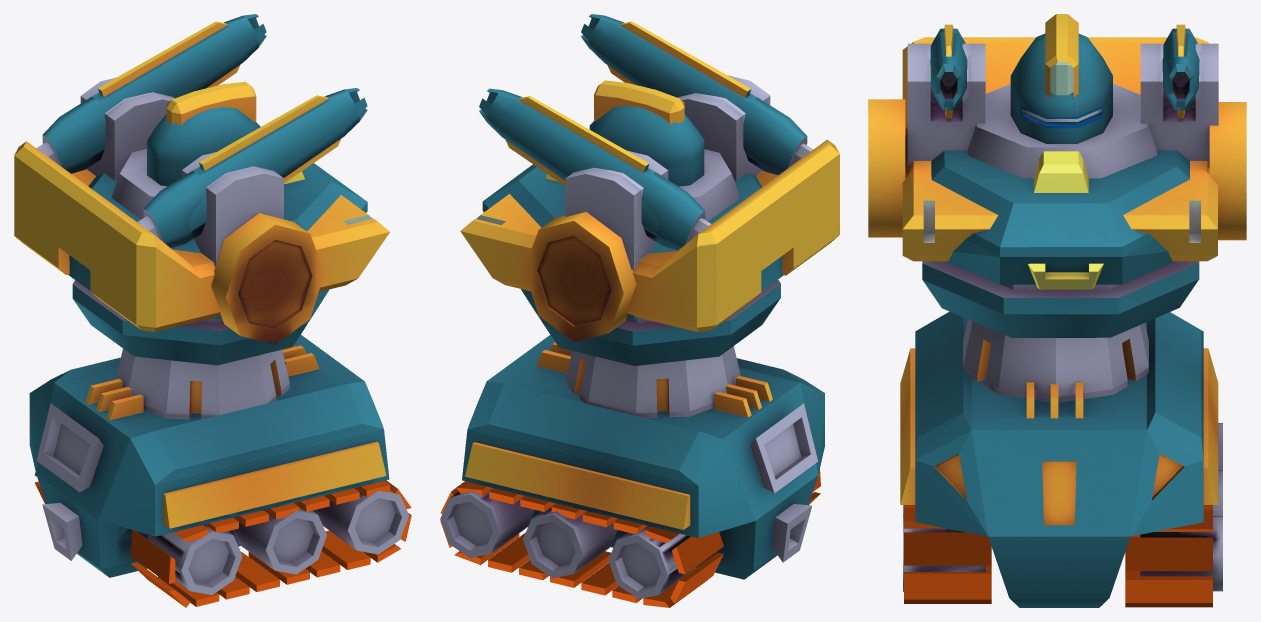
Rendered from Player_Idle2.obj.
3 views of the same model, side by side, from view 1: azimuth 30°, elevation 25°; view 2: azimuth 150°, elevation 25°; view 3: azimuth 270°, elevation 25° (orthographic). The views are drawn at different scales.
Visible parts, largest first — view 1: Object004, Object008, Object014, Box009, Box017; view 2: Object004, Object008, Object014, Box009, Box016; view 3: Object004, Object008, Box016, Box017, Object014, Box009.
Part boxes in pixels (box(x1,y1,x2,y2)): Object004: box(14, 77, 389, 365); Object008: box(29, 335, 389, 577); Object014: box(36, 14, 367, 247); Box009: box(147, 490, 408, 594); Box017: box(130, 480, 411, 607); Object004: box(460, 75, 839, 365); Object008: box(462, 335, 824, 579); Object014: box(479, 14, 813, 250); Box009: box(440, 488, 695, 598); Box016: box(440, 481, 723, 607); Object004: box(868, 14, 1246, 337); Object008: box(900, 311, 1218, 607); Box016: box(1125, 505, 1212, 607); Box017: box(904, 505, 991, 603); Object014: box(930, 24, 1199, 118); Box009: box(903, 423, 1222, 591).
Size of the model in its own units: 54.79 by 81.37 by 52.49.
Materials: 2 (1 with a texture image).
